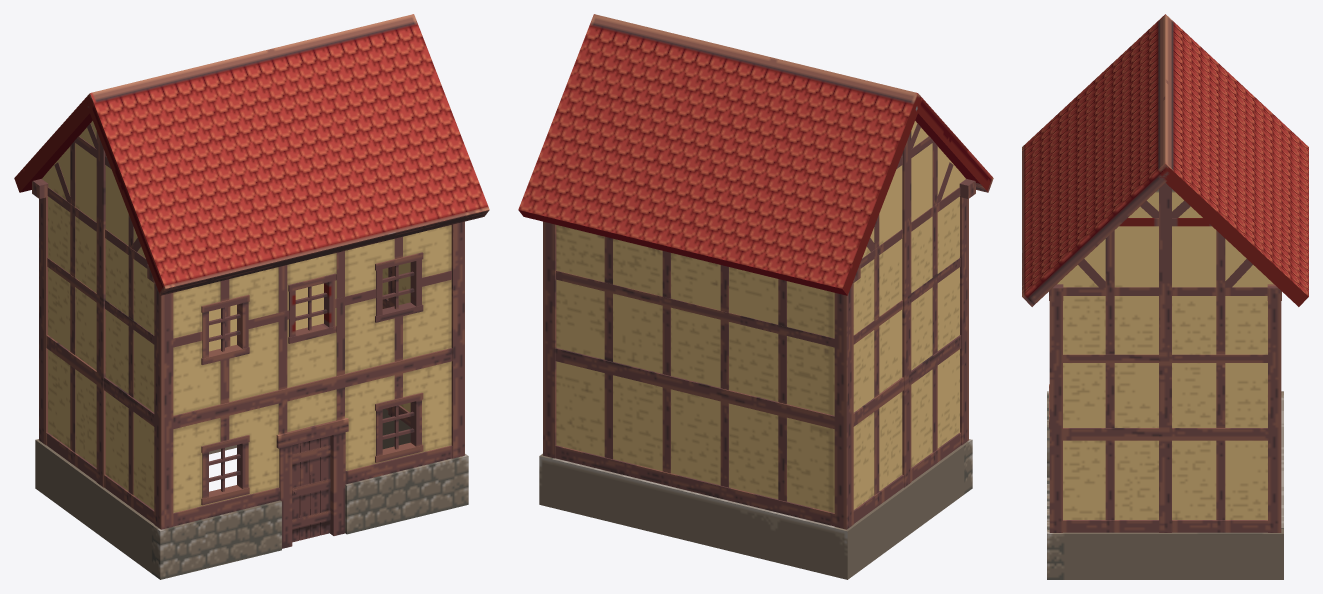
The model's file is house.fbx.
3 renders of one model, left to right at view 1: azimuth 30°, elevation 25°; view 2: azimuth 150°, elevation 25°; view 3: azimuth 270°, elevation 25°, orthographic. The views are drawn at different scales.
Visible parts, largest first — view 1: House_04_LOD2, Door_01_LOD2; view 2: House_04_LOD2; view 3: House_04_LOD2.
Part boxes in pixels (x1,y1,x2,y2): House_04_LOD2: (14,14,489,579); Door_01_LOD2: (292,436,330,542); House_04_LOD2: (518,14,993,579); House_04_LOD2: (1022,14,1308,579).
Size of the model in its own units: 675 by 881 by 546.
